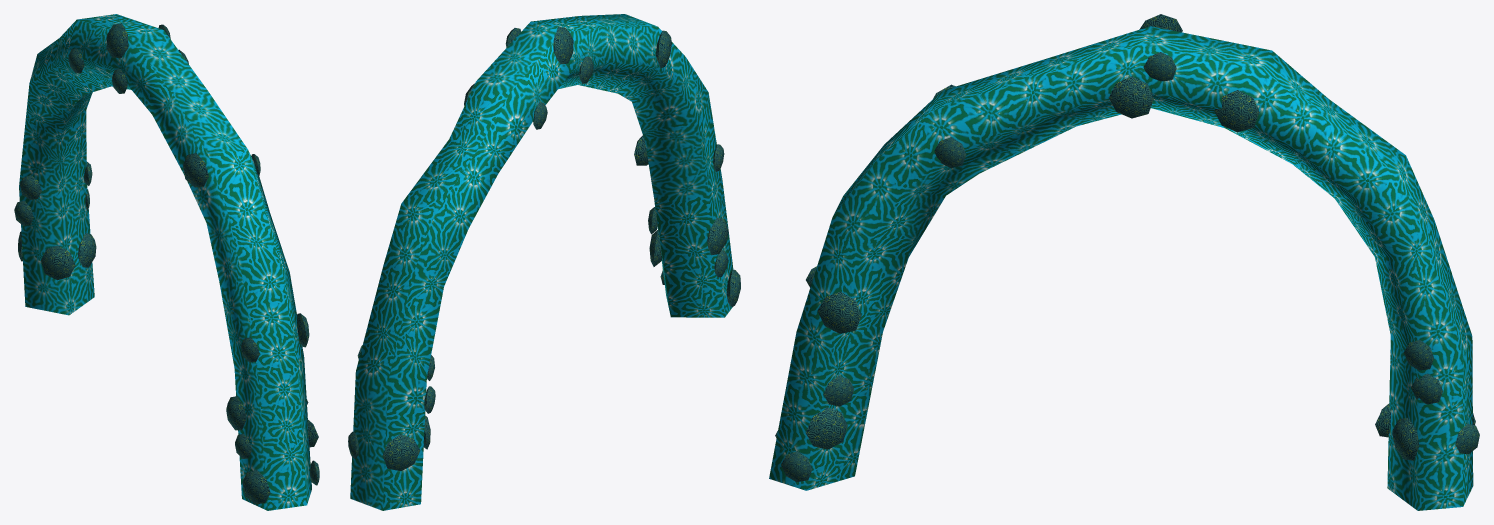
File: Sea_CoralLargeArch1_SM.fbx
3 views of the same model, side by side, from view 1: azimuth 30°, elevation 25°; view 2: azimuth 150°, elevation 25°; view 3: azimuth 270°, elevation 25° (orthographic). The views are drawn at different scales.
Visible parts, largest first — view 1: Sea_CoralLargeArch1_SM; view 2: Sea_CoralLargeArch1_SM; view 3: Sea_CoralLargeArch1_SM.
Boxes of the visible parts, x1,y1,x2,y2 form: Sea_CoralLargeArch1_SM: [14, 14, 319, 510]; Sea_CoralLargeArch1_SM: [348, 14, 740, 510]; Sea_CoralLargeArch1_SM: [769, 14, 1479, 510].
Size of the model in its own units: 146 by 505 by 722.
